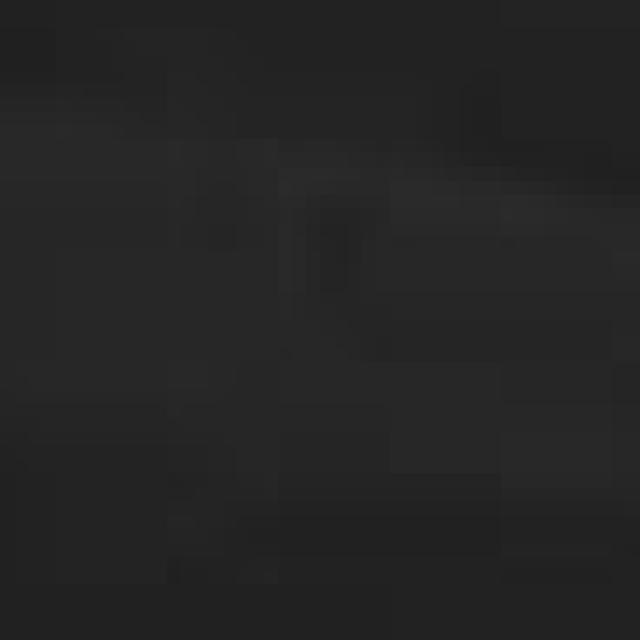fracture: (5, 0, 640, 640)
